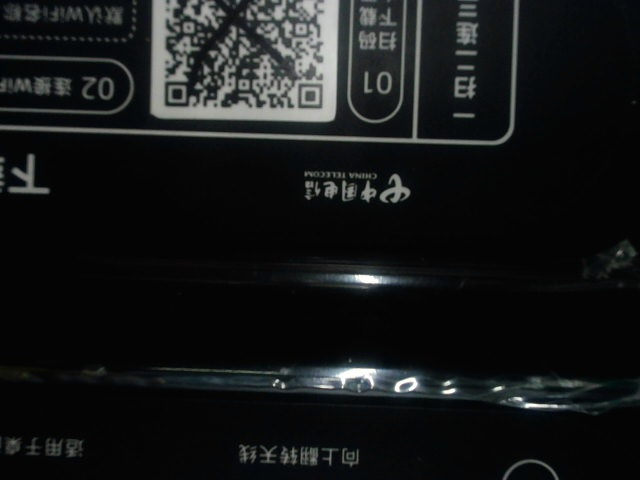AB_ChinaTelecom: (298, 160, 429, 205)
